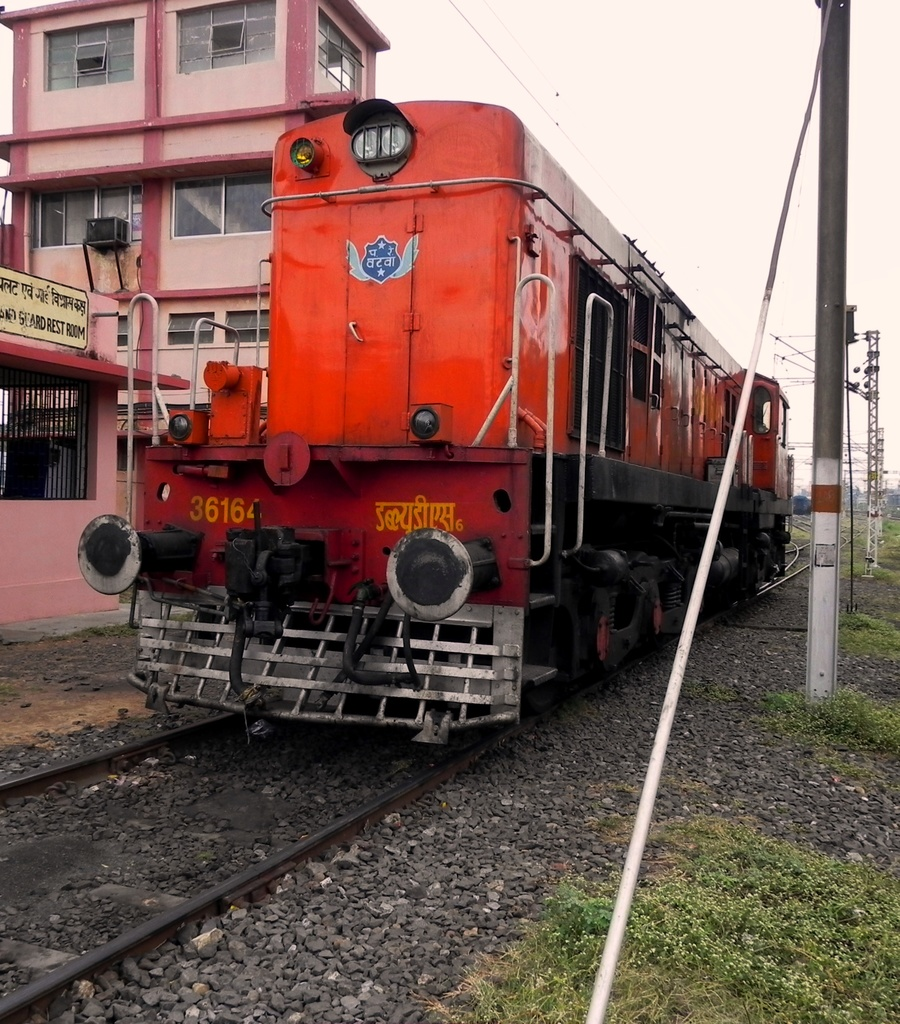train: (72, 88, 804, 760)
